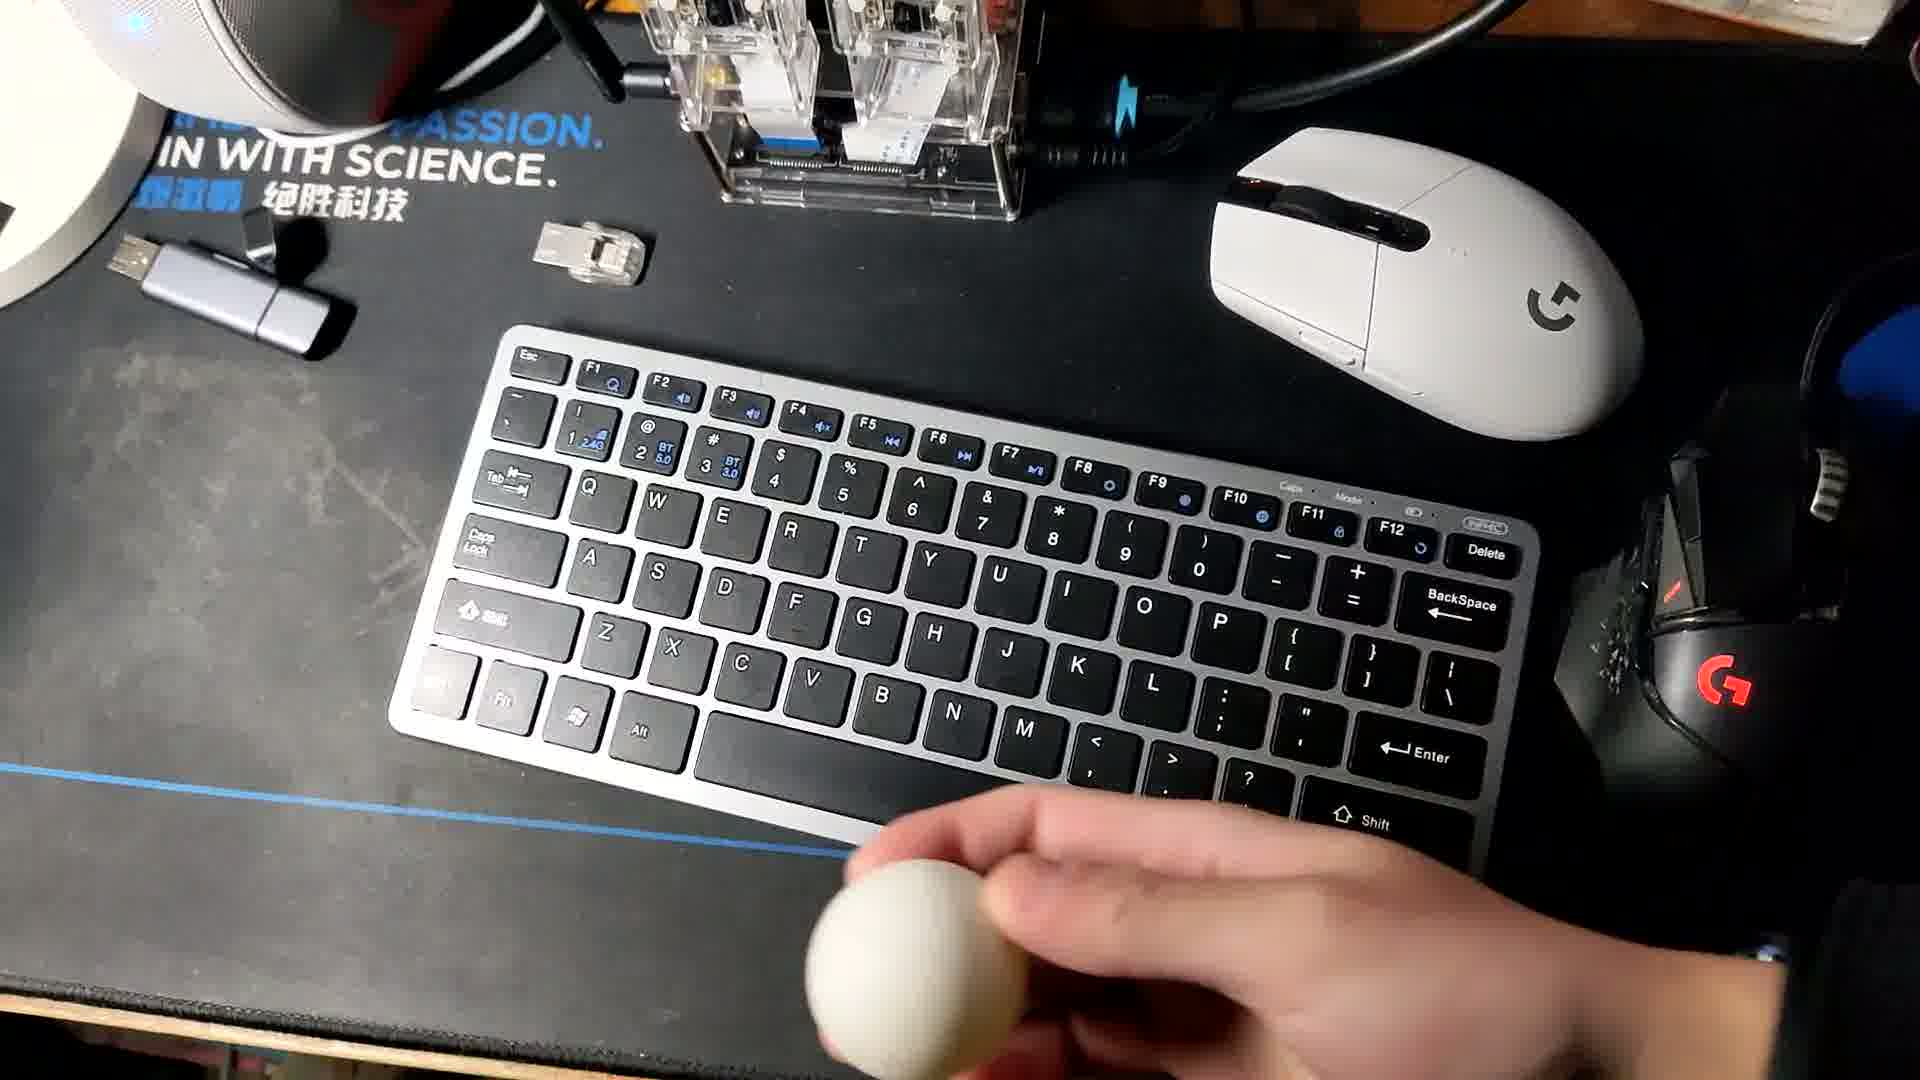Ball: (808, 851, 1021, 1080)
